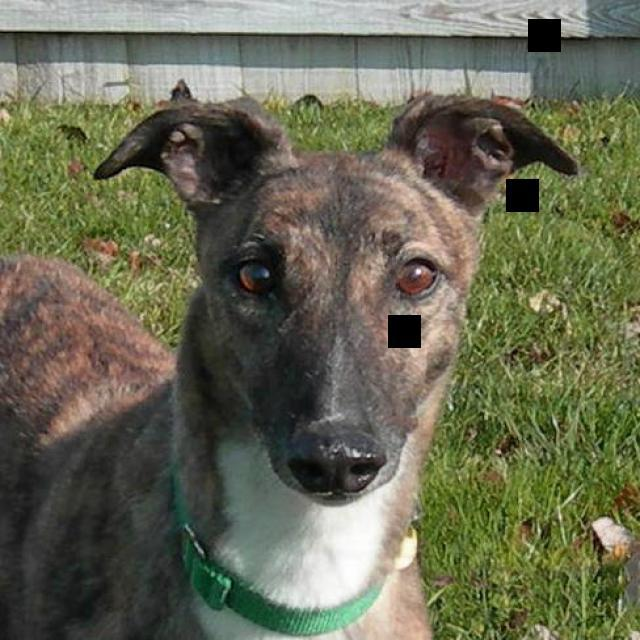adult_dog: (1, 78, 583, 640)
